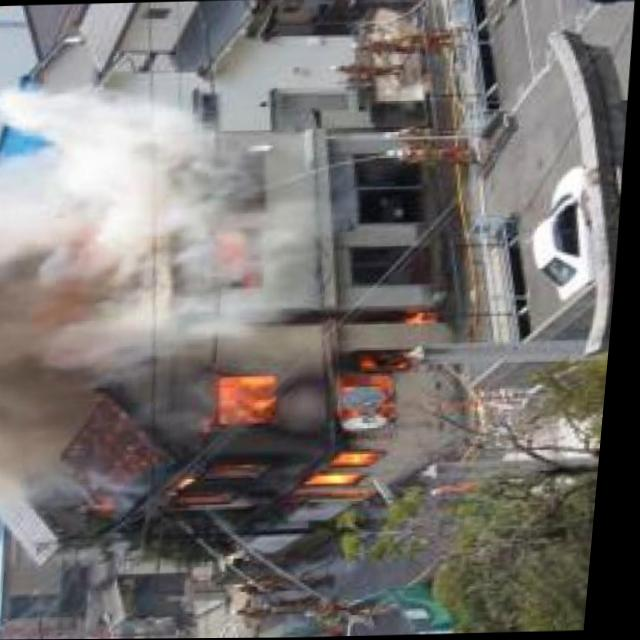Fire: (149, 302, 464, 540)
